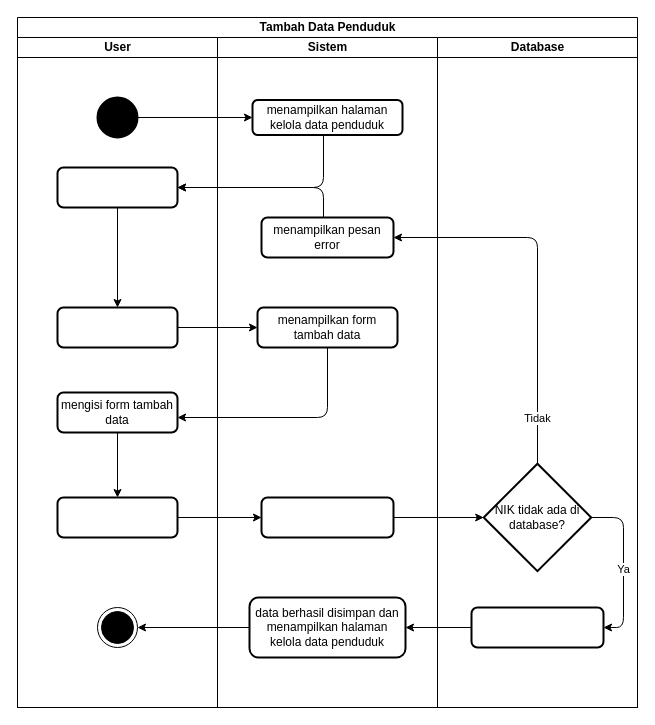
This 655x725 diagram has some shape labels left out. The shapes that lost their labels are listed below. From the top down, each one's centre as x and y in pixels, then its label:
At pixel 117 187: "memilih data penduduk".
At pixel 117 327: "menekan tombol tambah data".
At pixel 117 517: "menekan tombol simpan".
At pixel 327 517: "mengirim data ke backend".
At pixel 537 627: "menyimpan data ke dalam database".
